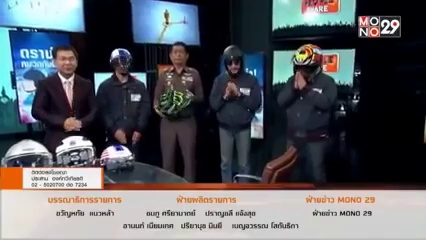helmet: (5, 134, 50, 164), (289, 41, 324, 77), (55, 131, 93, 162), (158, 90, 195, 114), (102, 145, 132, 171), (108, 45, 131, 72)
